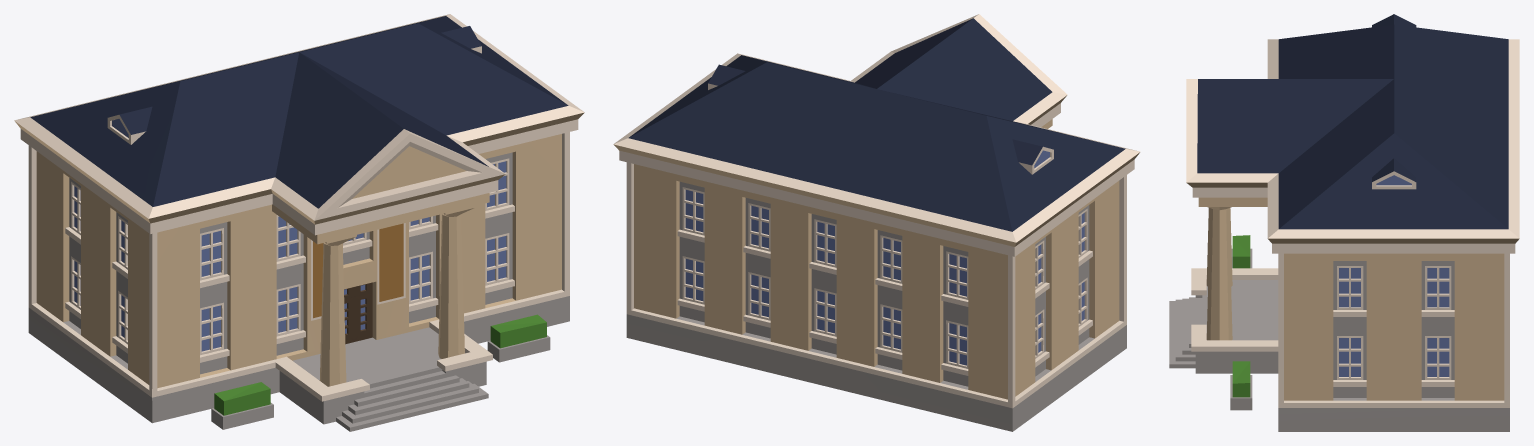
Rendered from museam.e294ace2.glb.
3 views of the same model, side by side, from view 1: azimuth 30°, elevation 25°; view 2: azimuth 150°, elevation 25°; view 3: azimuth 270°, elevation 25° (orthographic). The views are drawn at different scales.
Parts seen in each view (by area): view 1: building-museum; view 2: building-museum; view 3: building-museum.
Boxes of the visible parts, <box> form: building-museum: <box>14,14,584,431</box>; building-museum: <box>613,14,1140,431</box>; building-museum: <box>1169,14,1519,431</box>.
Bounding box in the file's own units: 21.41 × 12.89 × 15.9.
